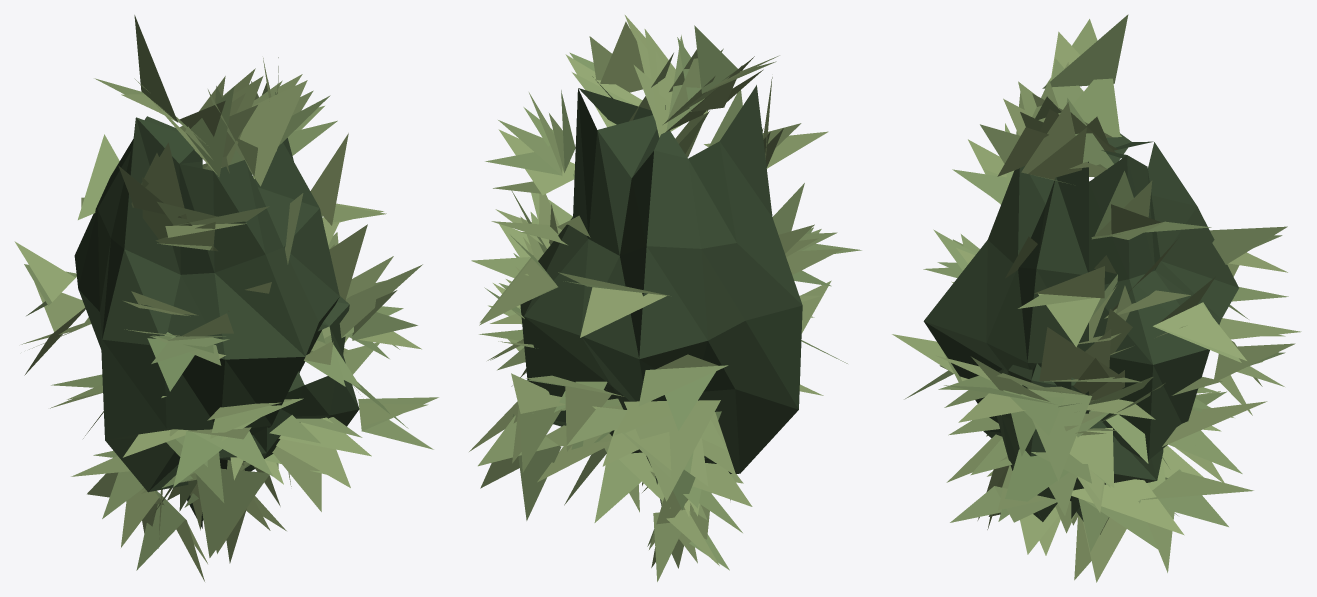
The model's file is hieda_bush_a.glb.
3 renders of one model, left to right at view 1: azimuth 30°, elevation 25°; view 2: azimuth 150°, elevation 25°; view 3: azimuth 270°, elevation 25°, orthographic. The views are drawn at different scales.
Parts seen in each view (by area): view 1: hieda_bush_a; view 2: hieda_bush_a; view 3: hieda_bush_a.
Boxes of the visible parts, x1,y1,x2,y2 form: hieda_bush_a: (14, 15, 438, 581); hieda_bush_a: (469, 15, 861, 581); hieda_bush_a: (892, 14, 1301, 582).
Bounding box in the file's own units: 2.98 × 4.89 × 3.33.
